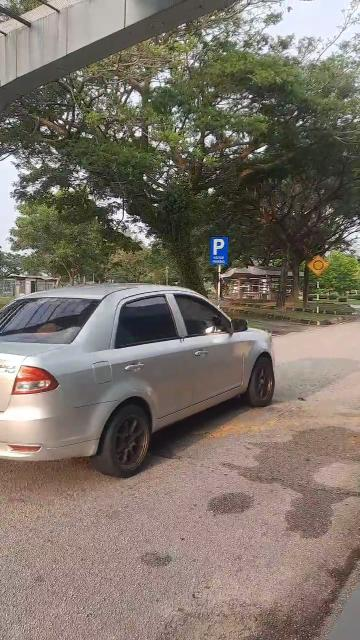car: (1, 281, 277, 471)
